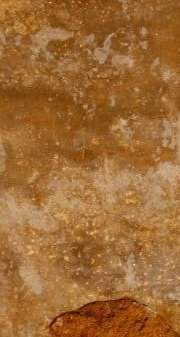Corrosion: (49, 296, 180, 337)
